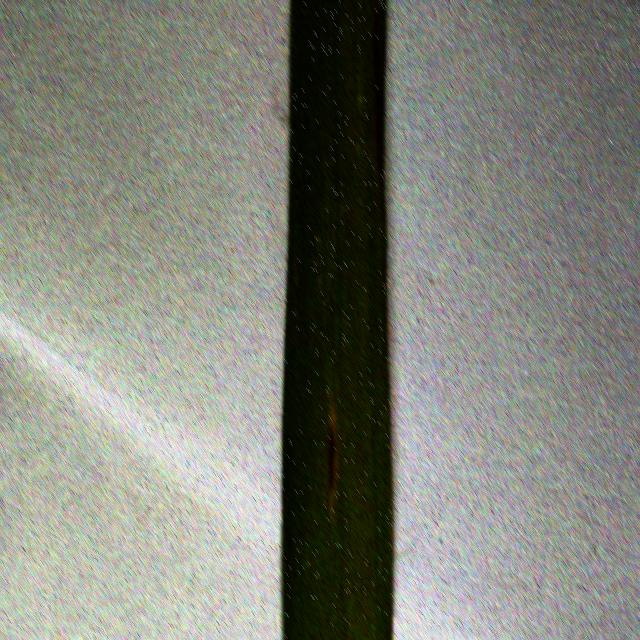NBS: (374, 8, 380, 187), (329, 424, 335, 491)
